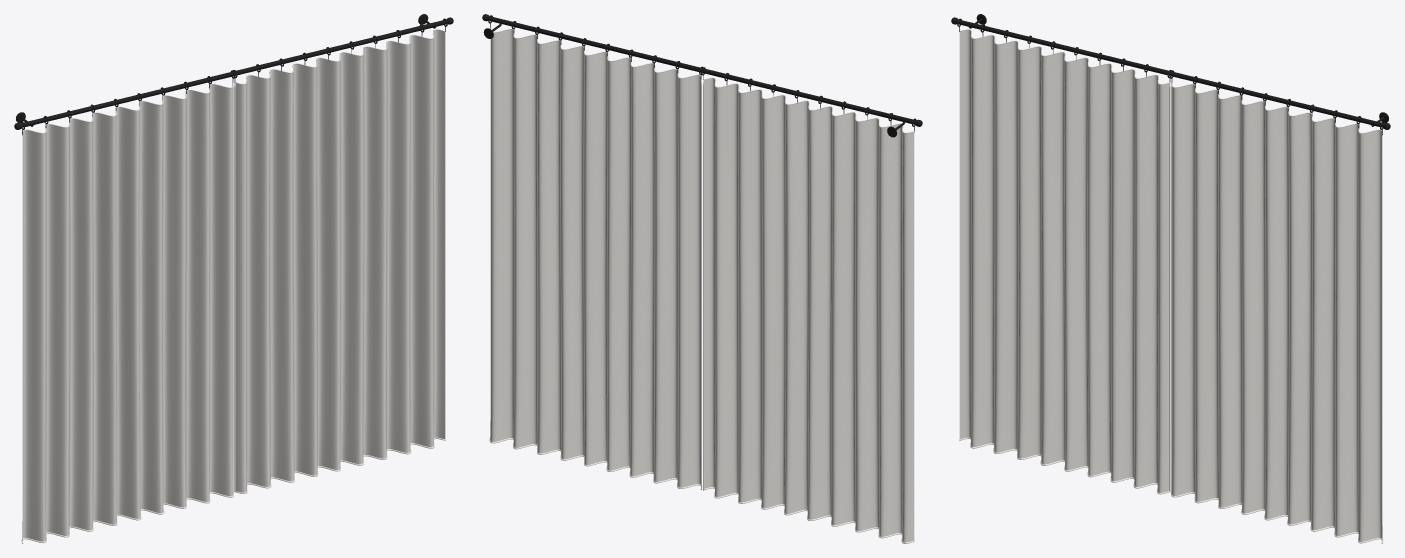
The model's file is cortina_onda_260_c100.glb.
3 renders of one model, left to right at view 1: azimuth 30°, elevation 25°; view 2: azimuth 150°, elevation 25°; view 3: azimuth 330°, elevation 25°, orthographic.
Visible parts, largest first — view 1: cortina_onda_260_c100; view 2: cortina_onda_260_c100; view 3: cortina_onda_260_c100.
Part boxes in pixels (box(x1,y1,x2,y2)): cortina_onda_260_c100: box(14, 14, 453, 543); cortina_onda_260_c100: box(482, 14, 922, 543); cortina_onda_260_c100: box(951, 14, 1390, 543).
Size of the model in its own units: 2.6 by 2.39 by 0.179.
2 materials, 1 textured.
